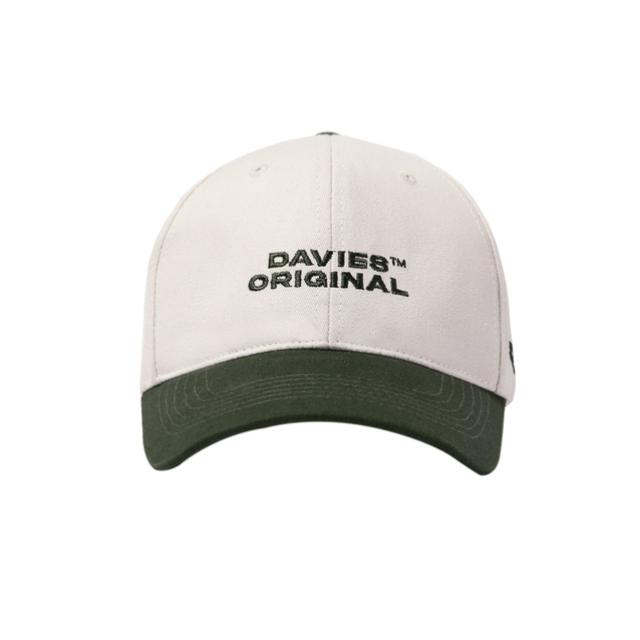Nonhelmet: (135, 128, 520, 478)
